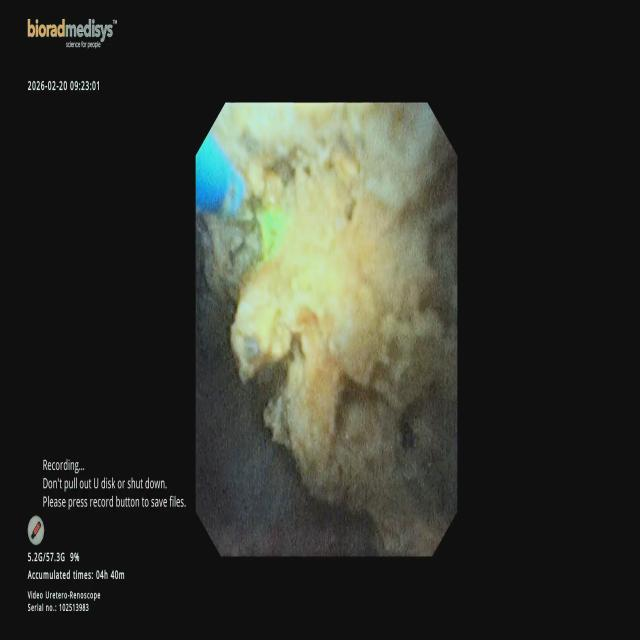laser_dot: (256, 206, 287, 260)
stone-new: (197, 103, 456, 554)
